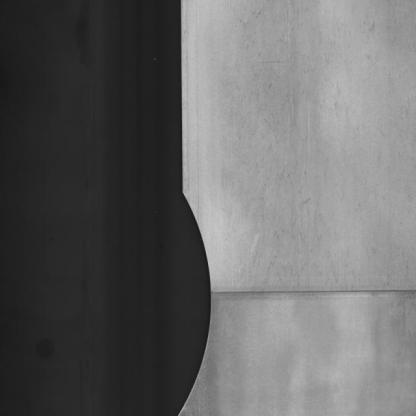welding_line: (199, 280, 415, 306)
